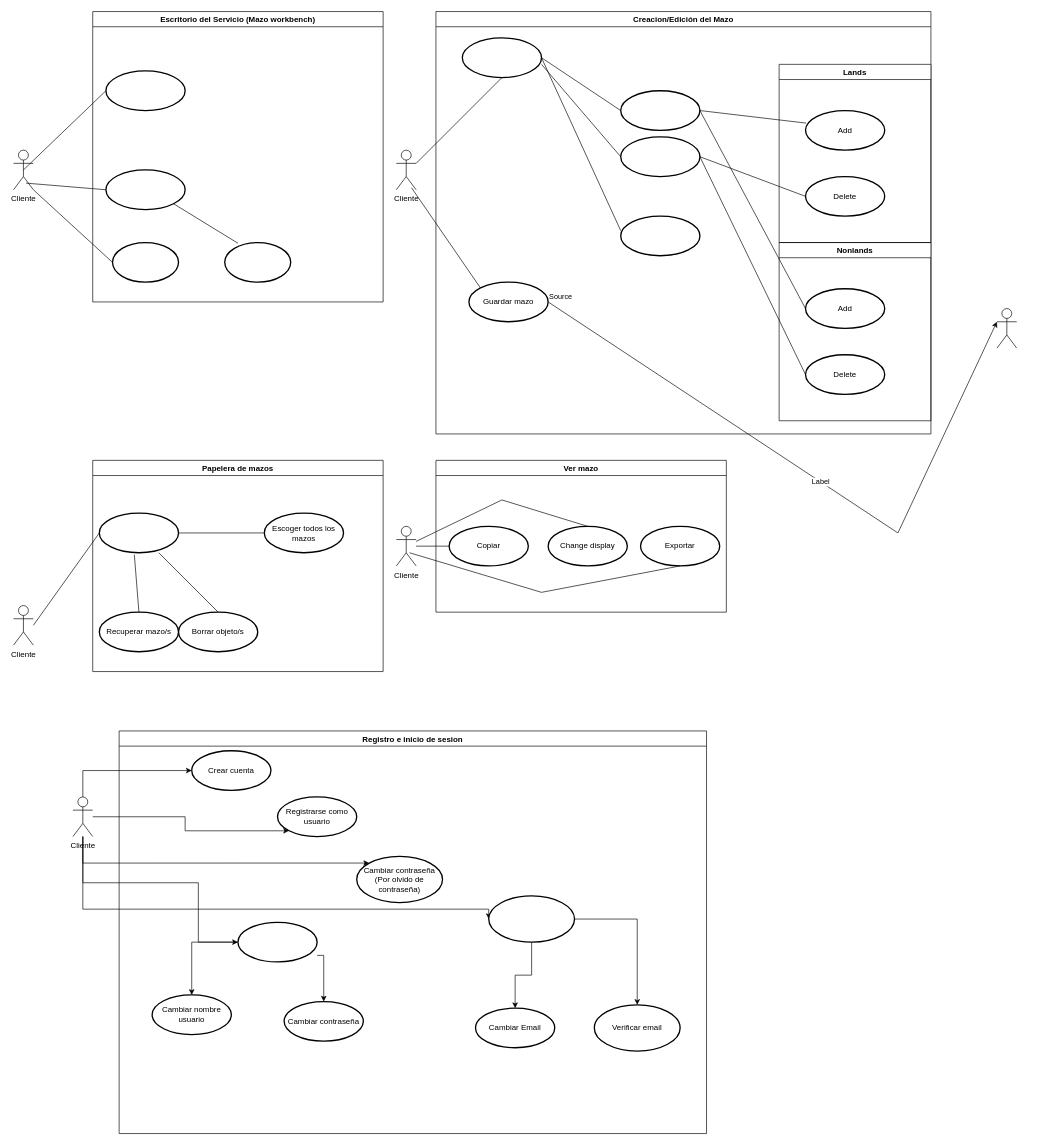
This 1049x1145 diagram has some shape labels left out. Here are the shapes that lost their labels. From the top down, the centre of each, then its label:
point 501,57: Crear
point 145,90: Registrar Usuario
point 660,110: Añadir cartas
point 660,156: Eliminar cartas
point 145,189: Crear/Editar un mazo
point 660,235: Importar
point 145,262: Mirar los mazos
point 257,262: Eliminar mazos
point 1006,328: Gestor de Mazos (servicio)
point 138,532: Escoger un mazo
point 531,918: Cambiar correo
point 277,941: Iniciar sesion
